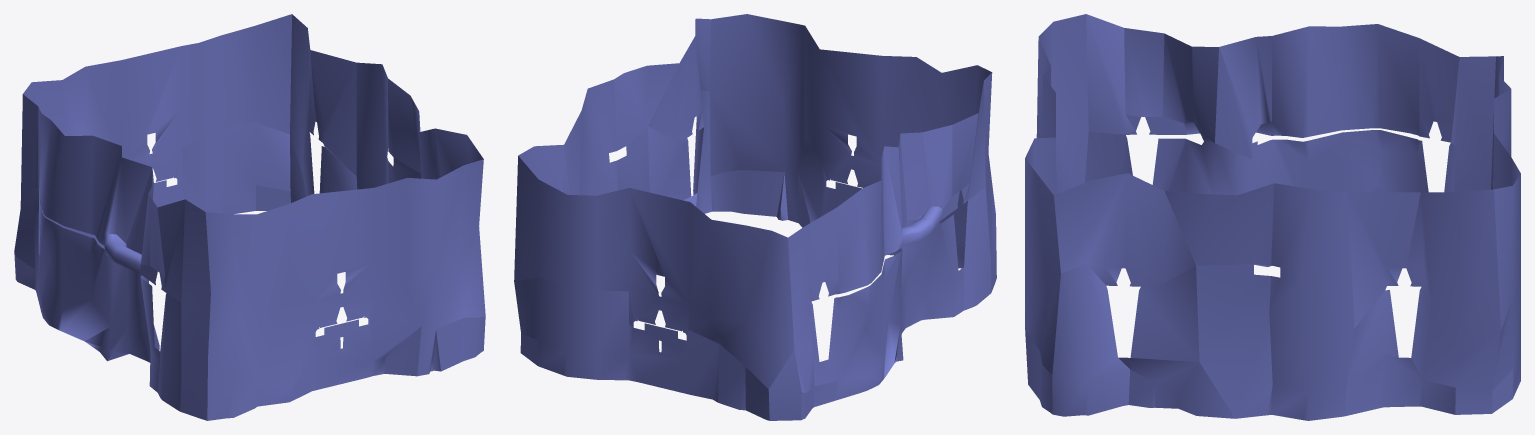
Rendered from cluster_18.fbx.
The picture shows the model from 3 angles, left to right: view 1: azimuth 30°, elevation 25°; view 2: azimuth 150°, elevation 25°; view 3: azimuth 270°, elevation 25°; orthographic projection. The views are drawn at different scales.
Parts seen in each view (by area): view 1: cluster_18; view 2: cluster_18; view 3: cluster_18.
Part boxes in pixels (x1=…): cluster_18: x1=14, y1=14, x2=485, y2=420; cluster_18: x1=514, y1=14, x2=996, y2=420; cluster_18: x1=1025, y1=14, x2=1520, y2=420.
Bounding box in the file's own units: 1098832 × 740715 × 1316737.
